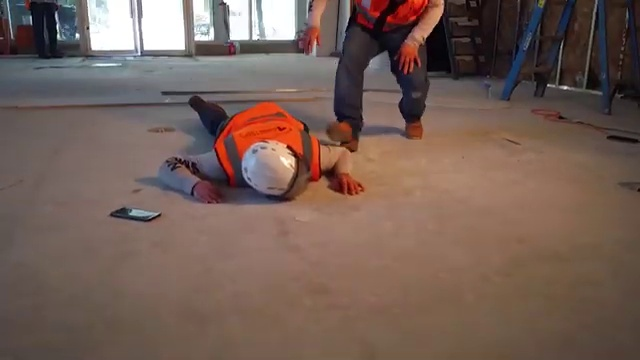helmet: (240, 136, 311, 200)
jacket: (209, 97, 332, 137)
